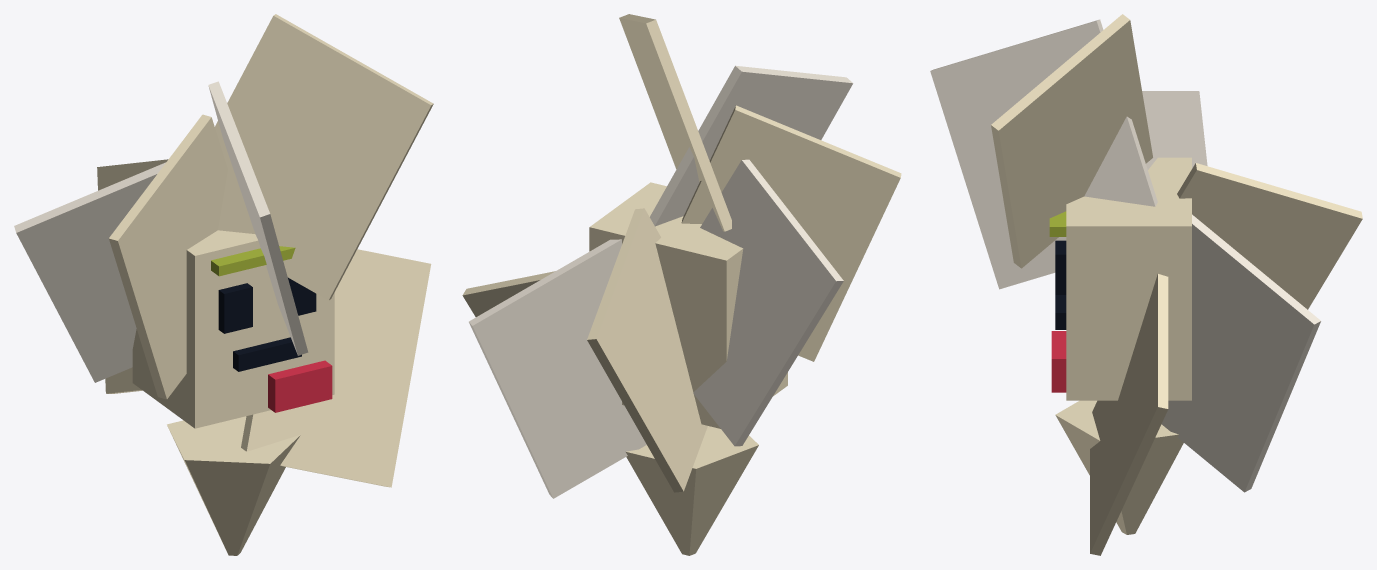
The model's file is enemy_wisp.glb.
3 renders of one model, left to right at view 1: azimuth 30°, elevation 25°; view 2: azimuth 150°, elevation 25°; view 3: azimuth 270°, elevation 25°, orthographic. The views are drawn at different scales.
Parts seen in each view (by area): view 1: enemy_wisp; view 2: enemy_wisp; view 3: enemy_wisp.
Part boxes in pixels (x1,y1,x2,y2): enemy_wisp: [14, 14, 433, 555]; enemy_wisp: [462, 14, 901, 555]; enemy_wisp: [930, 14, 1362, 555].
Bounding box in the file's own units: 1.26 × 1.6 × 1.17.
1 material, 1 textured.
